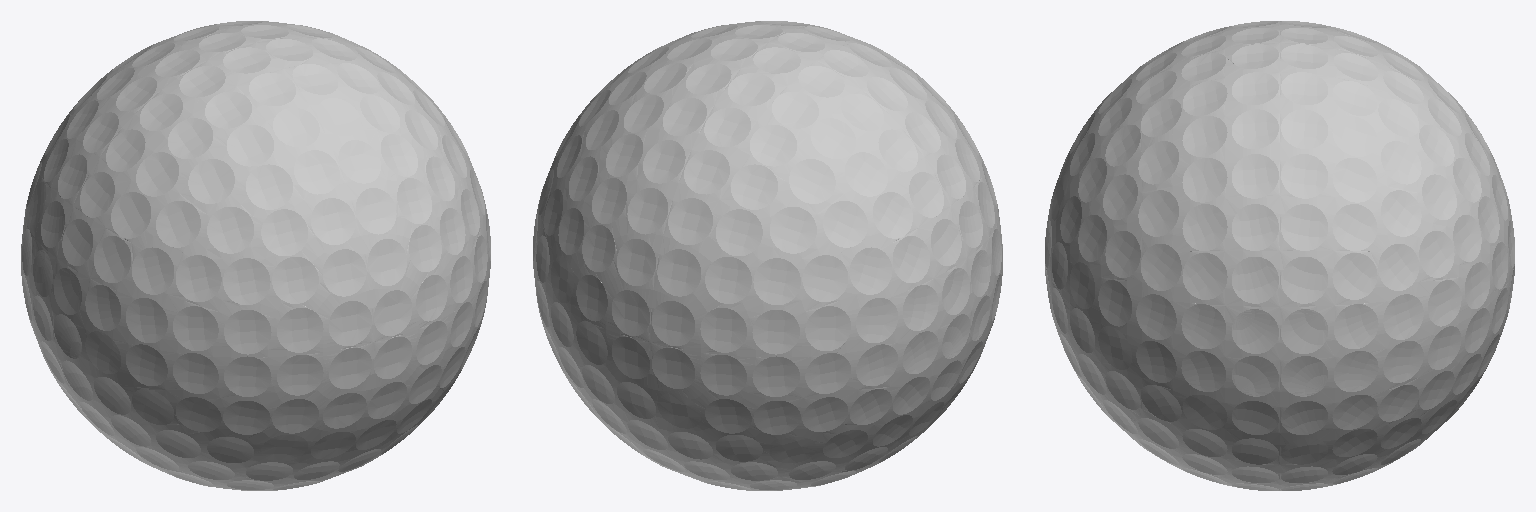
File: golfball.obj
3 renders of one model, left to right at view 1: azimuth 30°, elevation 25°; view 2: azimuth 150°, elevation 25°; view 3: azimuth 270°, elevation 25°, orthographic.
Parts seen in each view (by area): view 1: Golf-Ball; view 2: Golf-Ball; view 3: Golf-Ball.
Part boxes in pixels (bbox=[...]): Golf-Ball: bbox=[21, 21, 490, 490]; Golf-Ball: bbox=[533, 21, 1002, 490]; Golf-Ball: bbox=[1045, 21, 1514, 490].
Size of the model in its own units: 42.66 by 42.66 by 42.67.